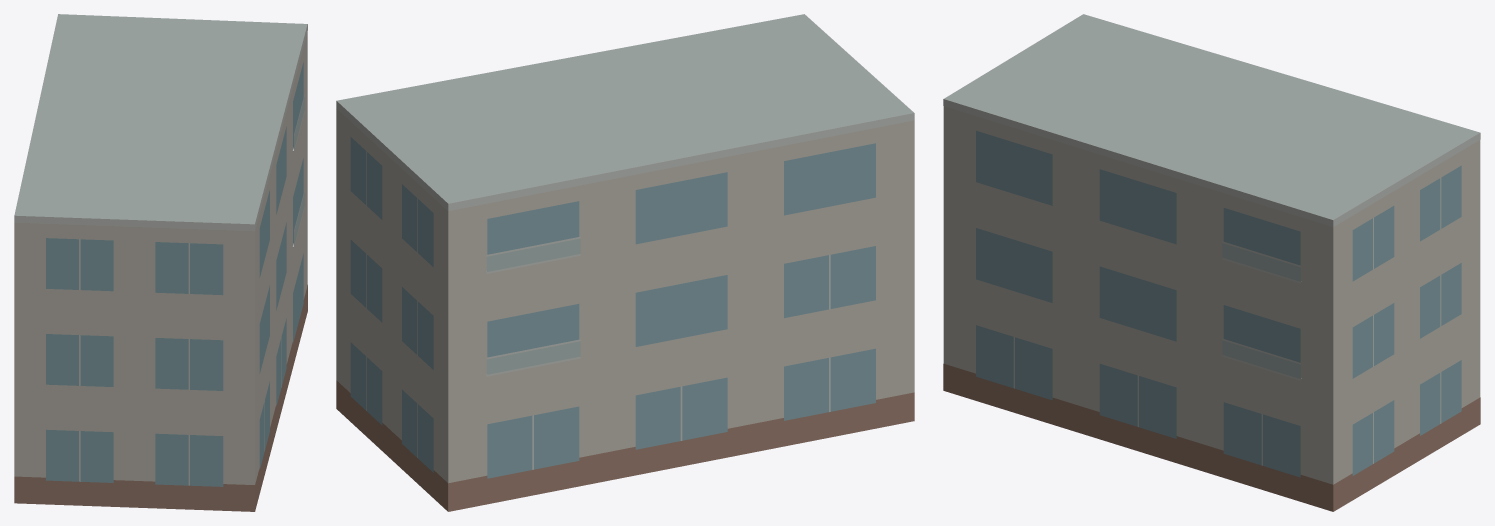
The model's file is survey-upis-32737723.glb.
3 renders of one model, left to right at view 1: azimuth 30°, elevation 25°; view 2: azimuth 150°, elevation 25°; view 3: azimuth 270°, elevation 25°, orthographic. The views are drawn at different scales.
Visible parts, largest first — view 1: survey-upis-32737723.tmp; view 2: survey-upis-32737723.tmp; view 3: survey-upis-32737723.tmp.
Part boxes in pixels (x1,y1,x2,y2): survey-upis-32737723.tmp: (14, 14, 307, 511); survey-upis-32737723.tmp: (336, 14, 914, 511); survey-upis-32737723.tmp: (943, 14, 1480, 511).
Bounding box in the file's own units: 15.47 × 10.2 × 17.02.
